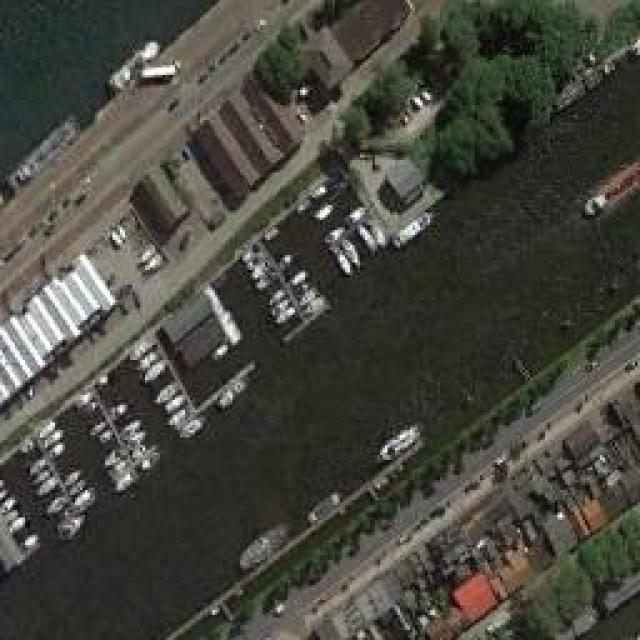Port: (2, 59, 640, 640)
